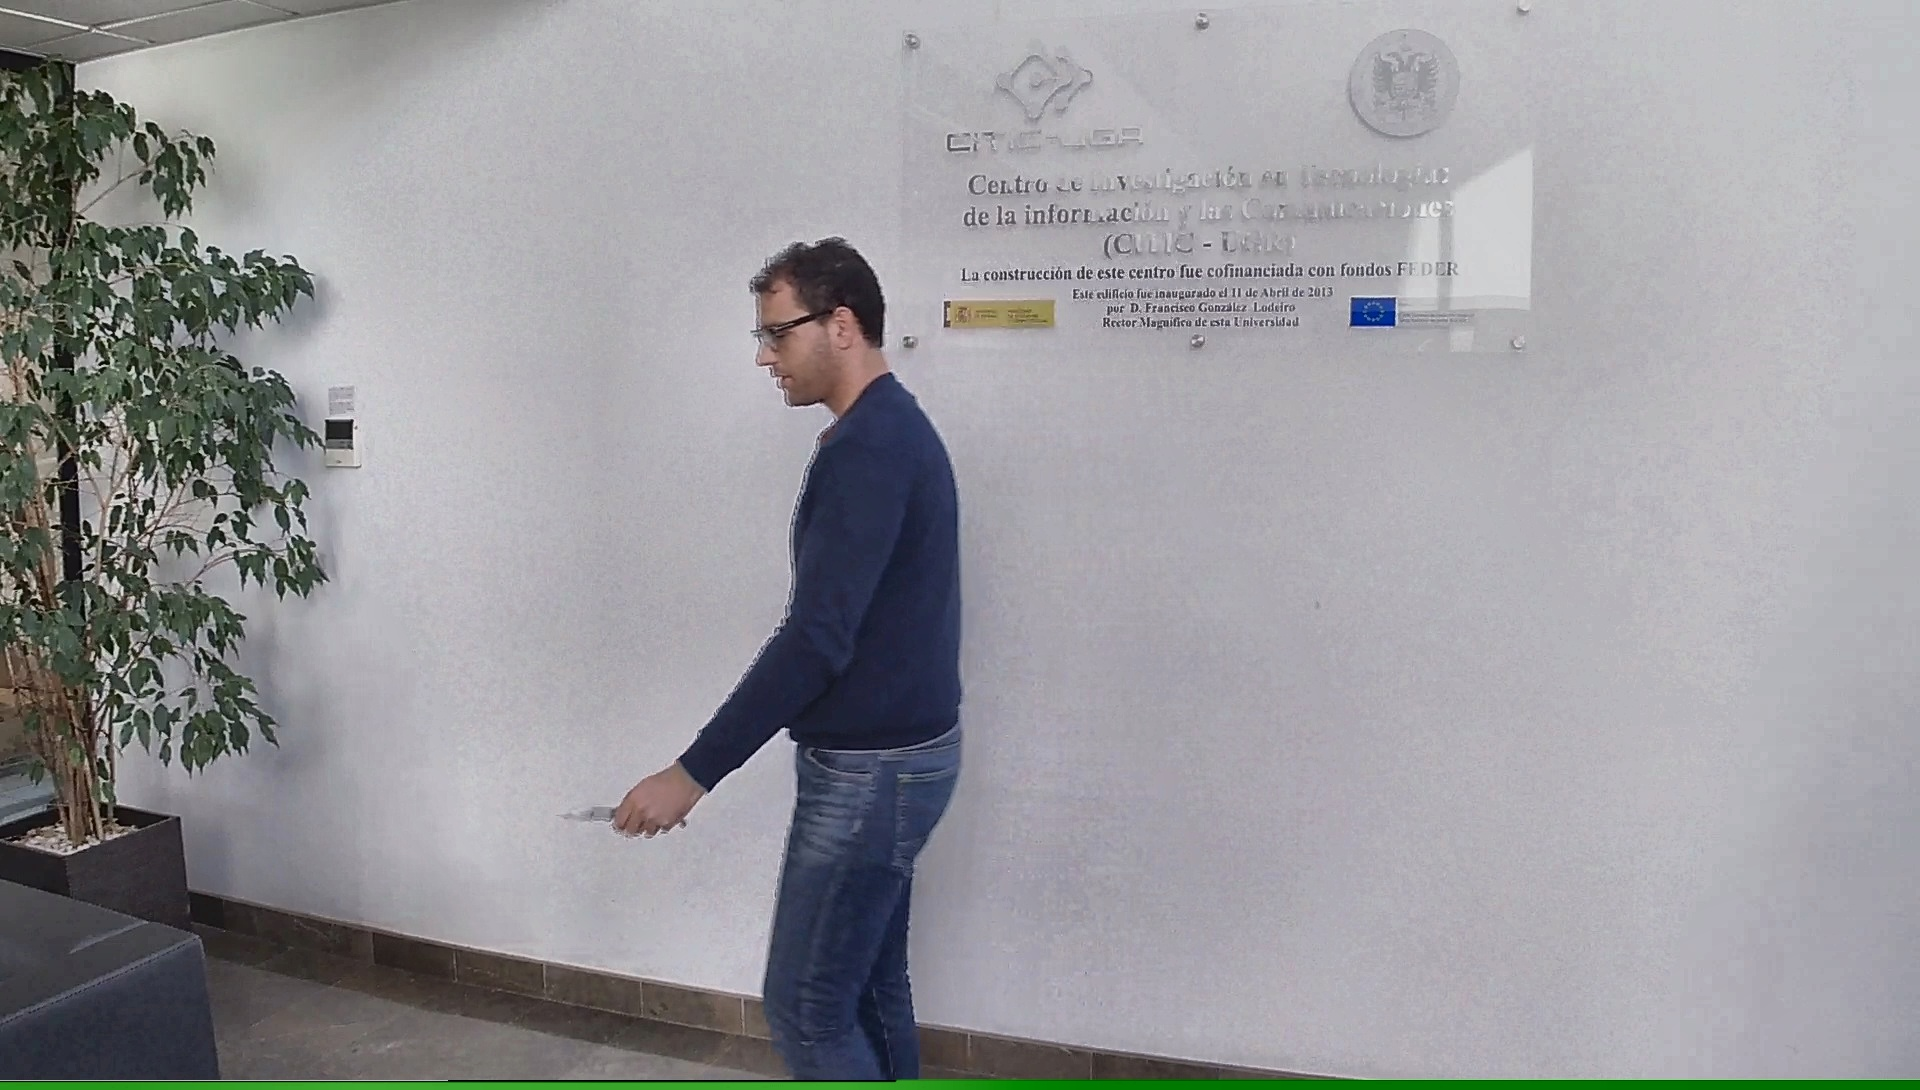knife: (542, 793, 698, 844)
